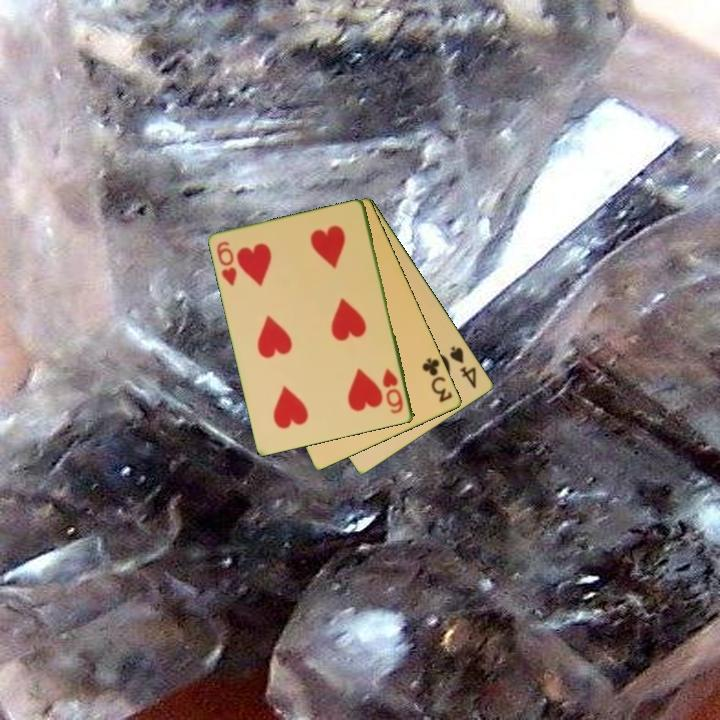3c: (419, 354, 456, 405)
4s: (446, 343, 480, 392)
6h: (379, 365, 406, 417), (213, 238, 240, 289)
